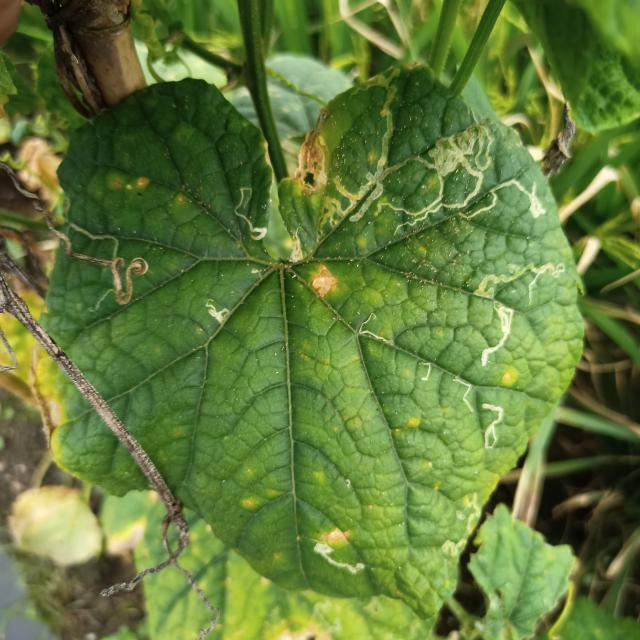disease_cucumber: (310, 263, 340, 306), (320, 525, 354, 552), (112, 172, 149, 196), (498, 370, 515, 386)
